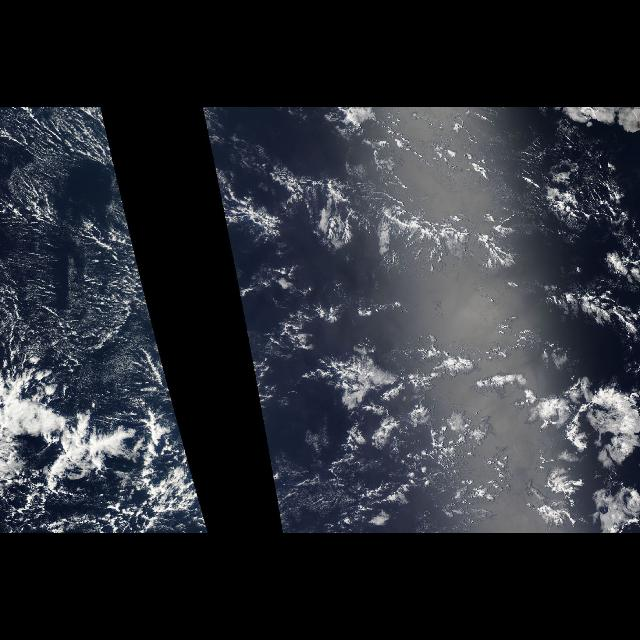Fish: (228, 148, 576, 318)
Flower: (294, 274, 640, 534)
Gravel: (10, 107, 134, 305)
Sugar: (5, 109, 172, 394)
